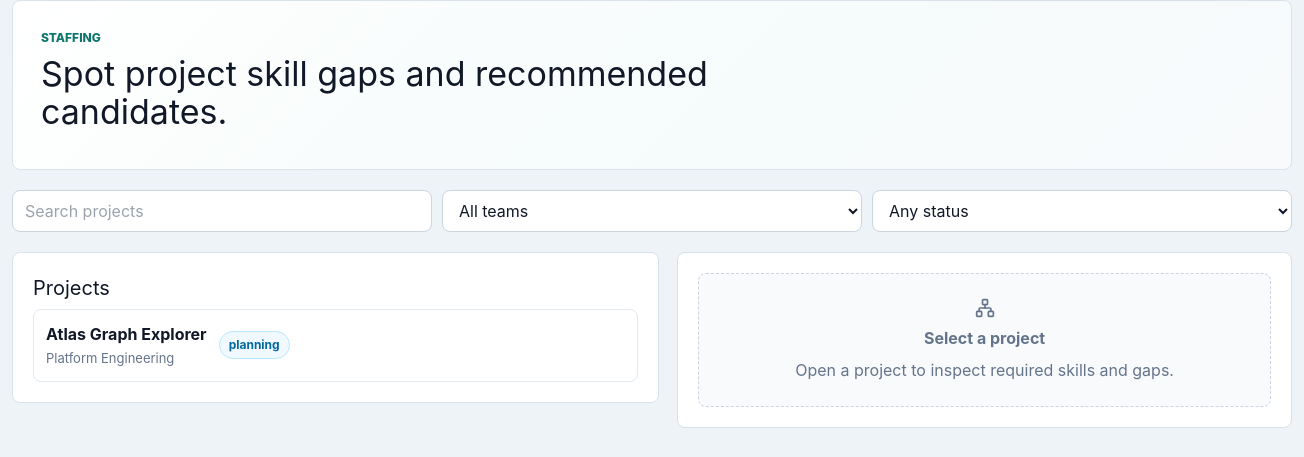
it: ProjectsPage › renders list and detail error states
The image size is (1304, 457).
Click the button "Atlas Graph Explorer Platform Engineering planning" at (126, 334), box 33,309 -> 638,382
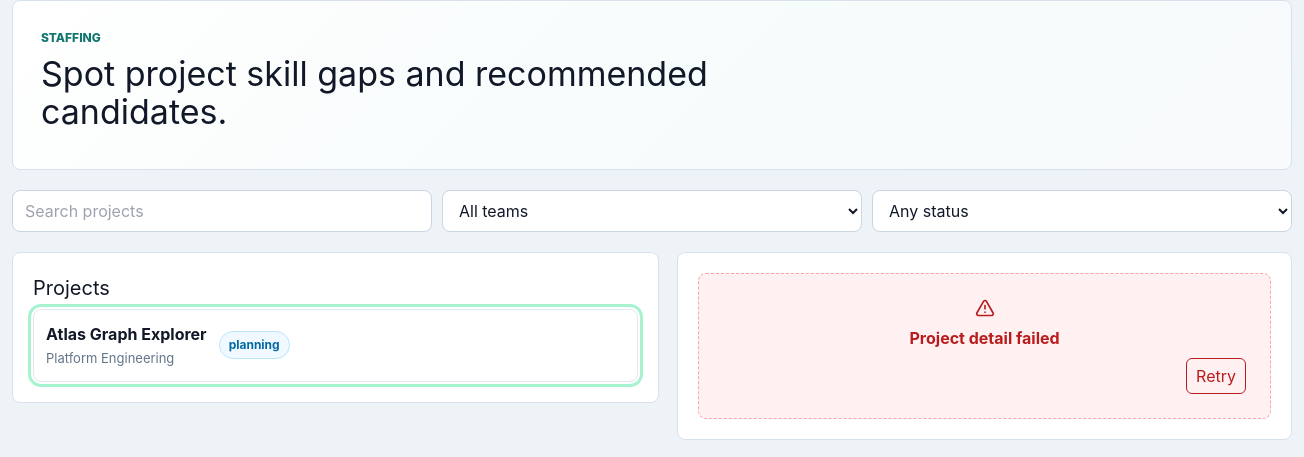
Check: the text "Project detail failed" is shown, box 910,326 -> 1060,350
